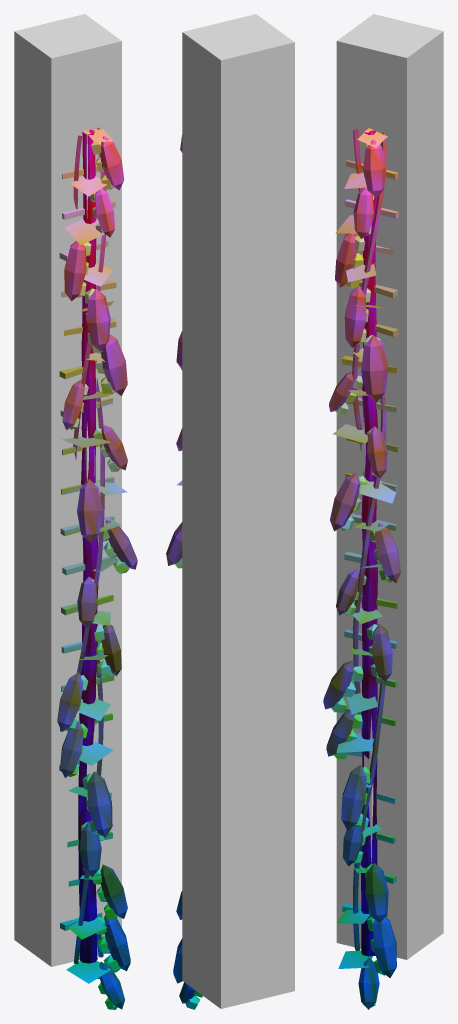
File: Plant_Ladder_06.fbx
3 views of the same model, side by side, from view 1: azimuth 30°, elevation 25°; view 2: azimuth 210°, elevation 25°; view 3: azimuth 330°, elevation 25° (orthographic). The views are drawn at different scales.
Parts seen in each view (by area): view 1: CLIMB_0, Plant_Ladder_06, COL_06_0; view 2: CLIMB_0, Plant_Ladder_06; view 3: CLIMB_0, Plant_Ladder_06, COL_06_0.
Boxes of the visible parts, x1,y1,x2,y2 form: CLIMB_0: (14, 14, 121, 966); Plant_Ladder_06: (57, 127, 137, 1009); COL_06_0: (83, 131, 94, 808); CLIMB_0: (182, 14, 294, 1008); Plant_Ladder_06: (166, 135, 202, 1009); CLIMB_0: (336, 14, 443, 959); Plant_Ladder_06: (323, 128, 400, 1009); COL_06_0: (364, 130, 373, 863).
Size of the model in its own units: 1.22 by 14.14 by 1.63.
